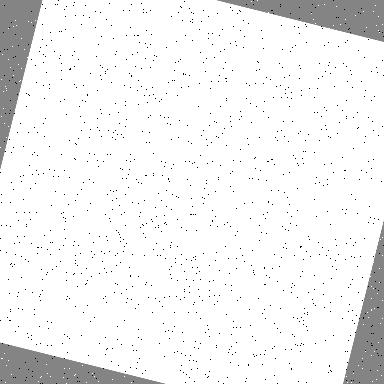pbw: (184, 225, 210, 250), (148, 194, 174, 218), (244, 273, 270, 297), (191, 140, 218, 160), (230, 258, 250, 280), (170, 200, 184, 216)
